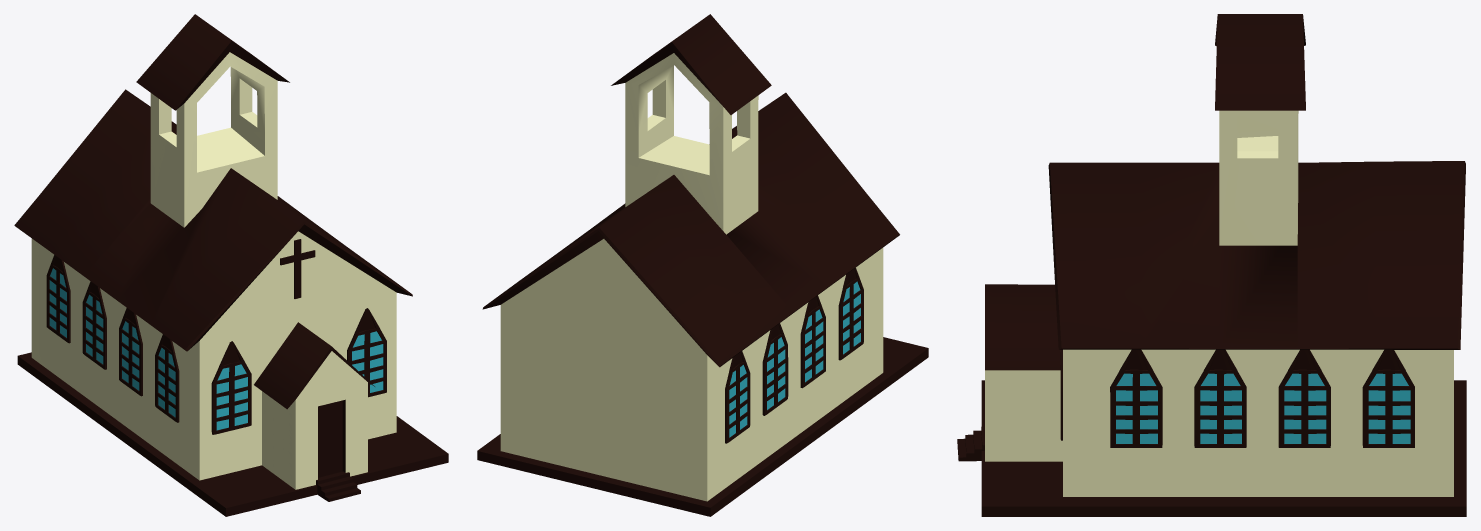
The model's file is Kosciol.FBX.
The picture shows the model from 3 angles, left to right: view 1: azimuth 30°, elevation 25°; view 2: azimuth 150°, elevation 25°; view 3: azimuth 270°, elevation 25°; orthographic projection. The views are drawn at different scales.
Parts seen in each view (by area): view 1: Koscioł, Podstawka, Box003, Box012, Box020, Box018, Box017, Box019, Box001; view 2: Koscioł, Podstawka, Box018, Box020, Box019, Box017; view 3: Koscioł, Podstawka, Box014, Box013, Box015, Box016.
Boxes of the visible parts, x1=… form: Koscioł: x1=14, y1=14, x2=412, y2=489; Podstawka: x1=17, y1=352, x2=448, y2=516; Box003: x1=211, y1=341, x2=251, y2=434; Box012: x1=347, y1=308, x2=386, y2=397; Box020: x1=155, y1=334, x2=179, y2=422; Box018: x1=82, y1=281, x2=106, y2=369; Box017: x1=46, y1=255, x2=70, y2=343; Box019: x1=119, y1=308, x2=142, y2=396; Box001: x1=280, y1=239, x2=315, y2=298; Koscioł: x1=482, y1=14, x2=899, y2=501; Podstawka: x1=477, y1=337, x2=928, y2=516; Box018: x1=762, y1=323, x2=788, y2=415; Box020: x1=838, y1=267, x2=863, y2=360; Box019: x1=800, y1=295, x2=825, y2=388; Box017: x1=725, y1=351, x2=750, y2=443; Koscioł: x1=985, y1=14, x2=1465, y2=496; Podstawka: x1=957, y1=380, x2=1466, y2=516; Box014: x1=1194, y1=349, x2=1246, y2=447; Box013: x1=1110, y1=349, x2=1162, y2=447; Box015: x1=1278, y1=349, x2=1330, y2=447; Box016: x1=1362, y1=349, x2=1414, y2=447.
Bounding box in the file's own units: 211 × 331 × 349.
